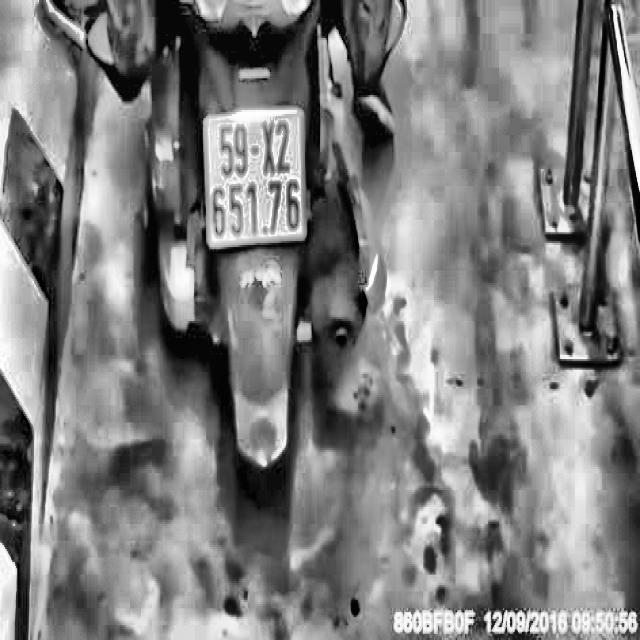plate: (199, 98, 313, 257)
